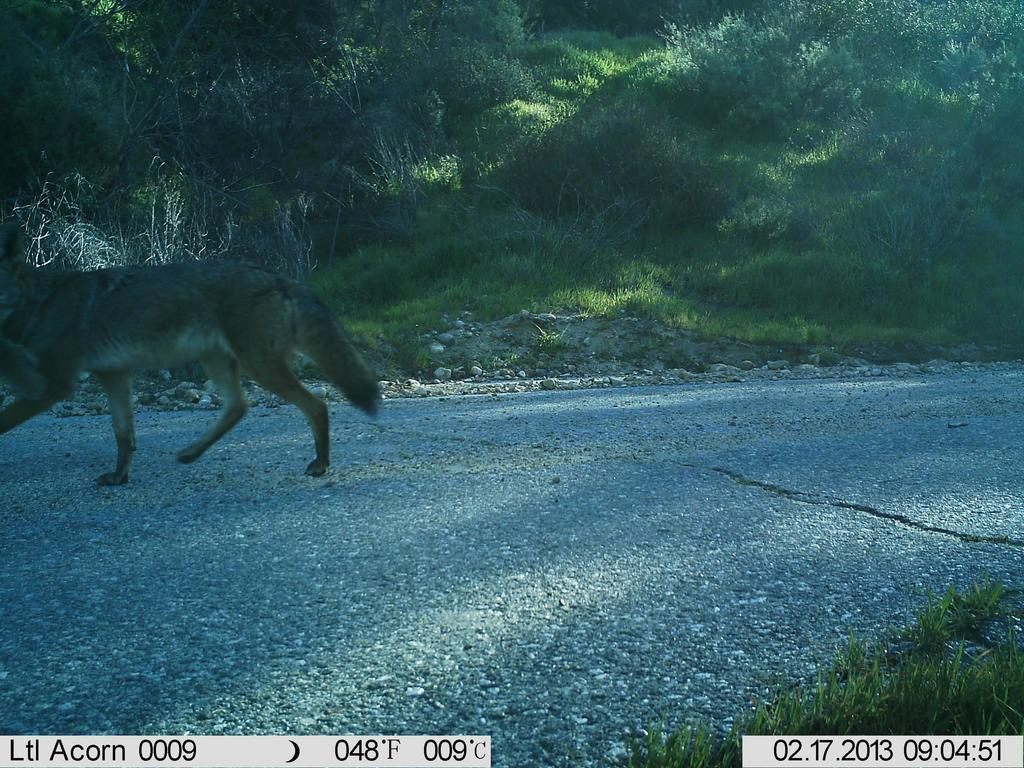coyote: (5, 233, 388, 501)
